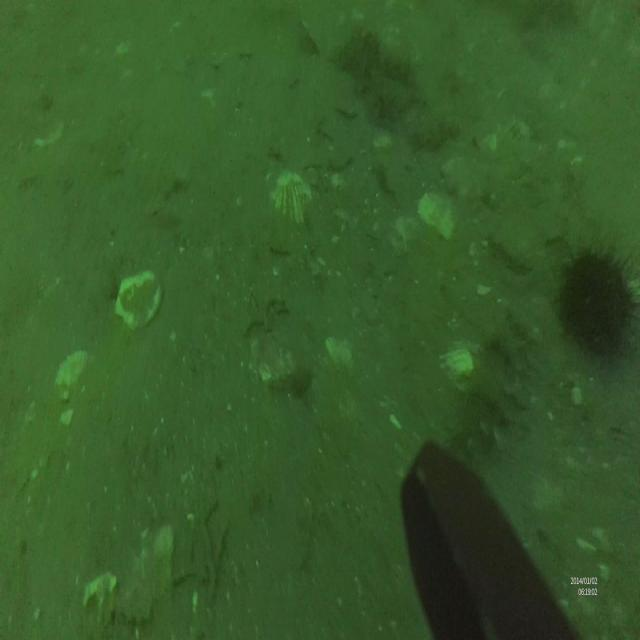echinus: (558, 240, 638, 374)
holothurian: (452, 304, 539, 474)
scallop: (272, 166, 313, 226)
